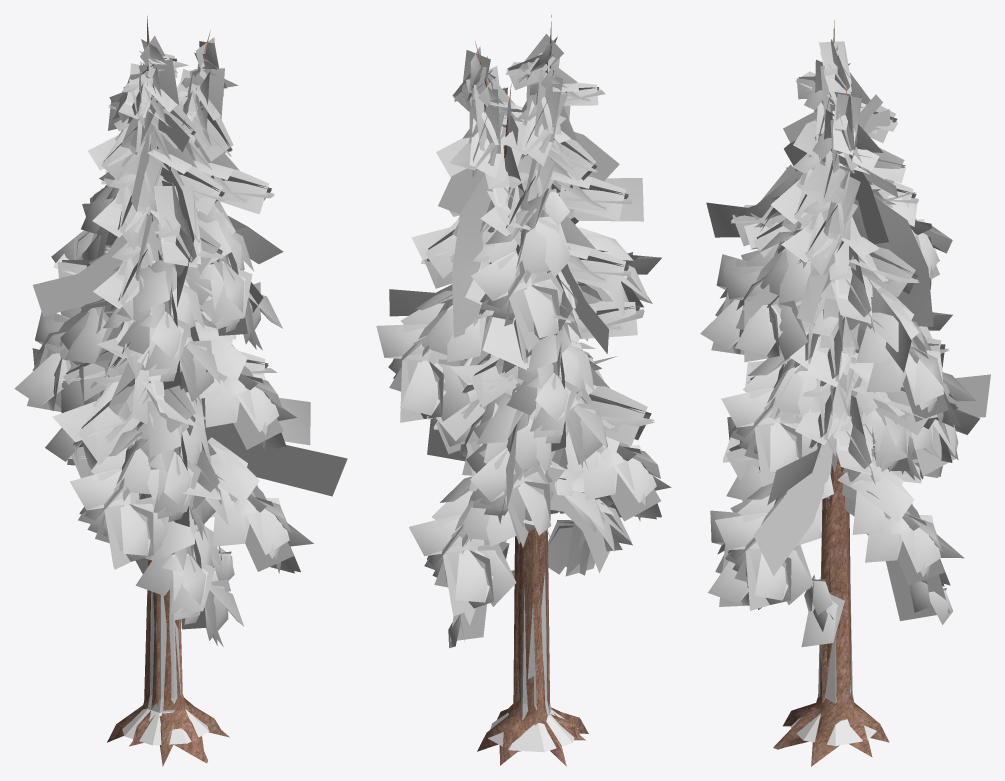
The model's file is redwood_split.dae.
3 renders of one model, left to right at view 1: azimuth 30°, elevation 25°; view 2: azimuth 150°, elevation 25°; view 3: azimuth 270°, elevation 25°, orthographic. The views are drawn at different scales.
Parts seen in each view (by area): view 1: redwood_split_a750, redwood_split_a350, Colmesh_redwood_split-1; view 2: redwood_split_a750, redwood_split_a350, Colmesh_redwood_split-1; view 3: redwood_split_a750, redwood_split_a350, Colmesh_redwood_split-1.
Part boxes in pixels (x1,y1,x2,y2): redwood_split_a750: (14,16,313,766); redwood_split_a350: (27,52,347,762); Colmesh_redwood_split-1: (122,70,209,745); redwood_split_a750: (376,15,668,766); redwood_split_a350: (385,34,671,763); Colmesh_redwood_split-1: (488,67,577,752); redwood_split_a750: (700,20,983,757); redwood_split_a350: (706,41,990,766); Colmesh_redwood_split-1: (790,498,876,745).
Bounding box in the file's own units: 13.72 × 13.92 × 38.07.
